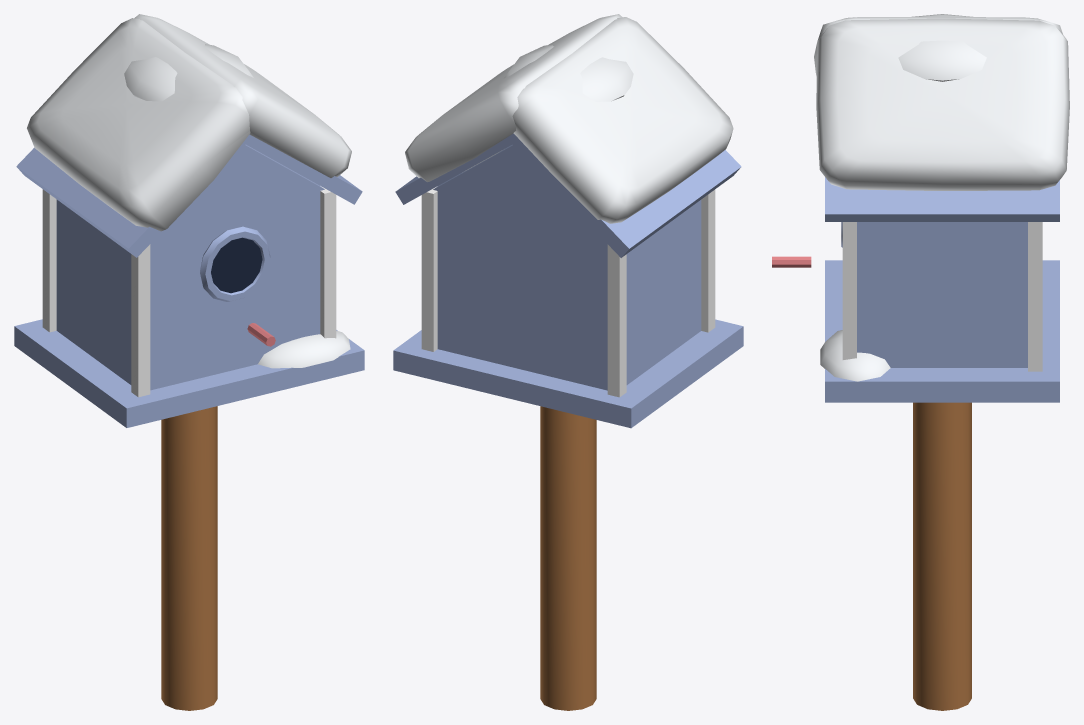
Rendered from SnowyBirdhouse.glb.
3 renders of one model, left to right at view 1: azimuth 30°, elevation 25°; view 2: azimuth 150°, elevation 25°; view 3: azimuth 270°, elevation 25°, orthographic. The views are drawn at different scales.
Visible parts, largest first — view 1: SnowyBirdhouse; view 2: SnowyBirdhouse; view 3: SnowyBirdhouse.
Part boxes in pixels (x1,y1,x2,y2): SnowyBirdhouse: [14, 14, 364, 710]; SnowyBirdhouse: [393, 14, 743, 710]; SnowyBirdhouse: [772, 14, 1069, 710].
Bounding box in the file's own units: 4.4 × 11.47 × 4.56.
1 material, 1 textured.
